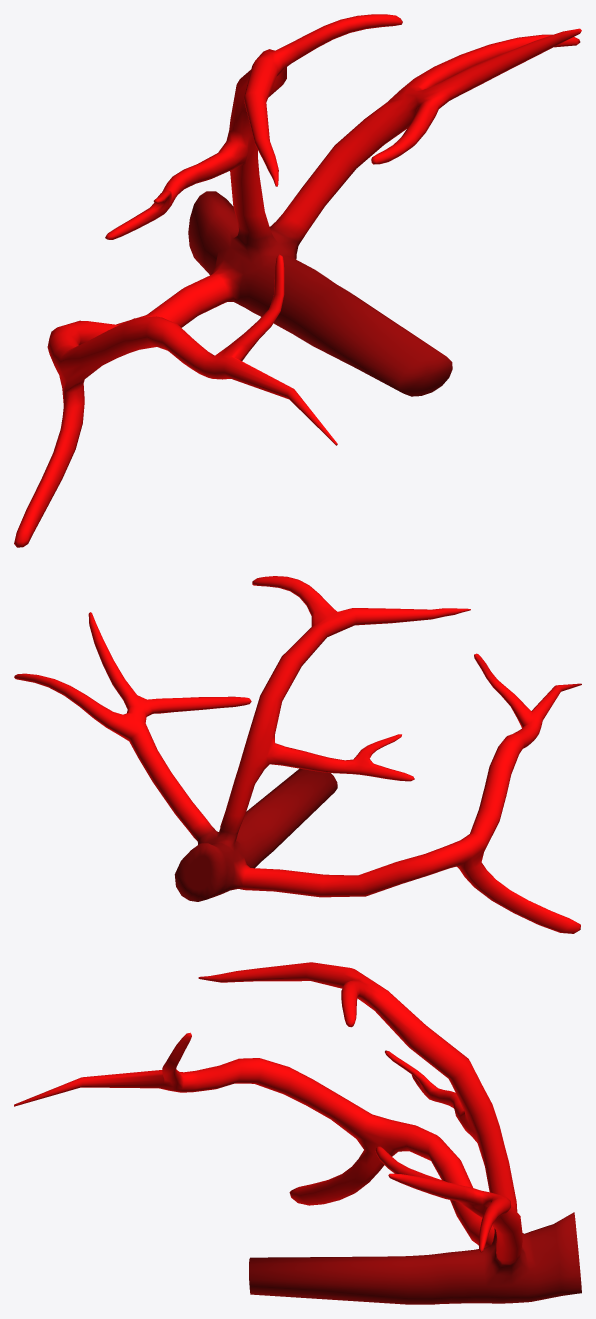
The model's file is _IVC_Heart_inner.fbx.
The picture shows the model from 3 angles, top to bottom: view 1: azimuth 30°, elevation 25°; view 2: azimuth 150°, elevation 25°; view 3: azimuth 270°, elevation 25°; orthographic projection. The views are drawn at different scales.
Visible parts, largest first — view 1: IVC_Heart_inner; view 2: IVC_Heart_inner; view 3: IVC_Heart_inner.
Part boxes in pixels (<box>): IVC_Heart_inner: <box>14,14,581,547</box>; IVC_Heart_inner: <box>14,576,581,933</box>; IVC_Heart_inner: <box>14,962,581,1304</box>.
Size of the model in its own units: 182 by 109 by 153.
